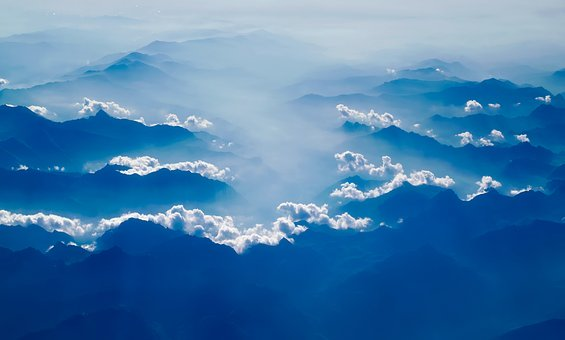mountain: (20, 22, 565, 335)
